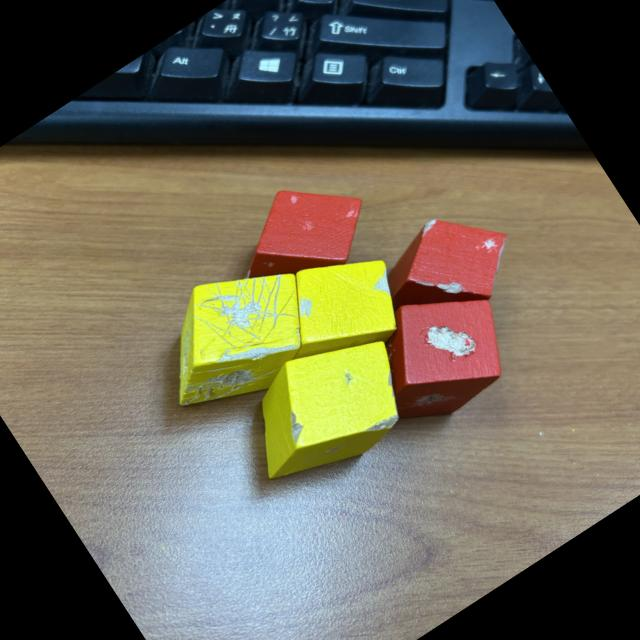broken: (130, 236, 340, 434), (218, 309, 430, 505), (346, 262, 530, 439), (212, 155, 388, 317), (252, 226, 422, 389), (360, 187, 532, 347)
